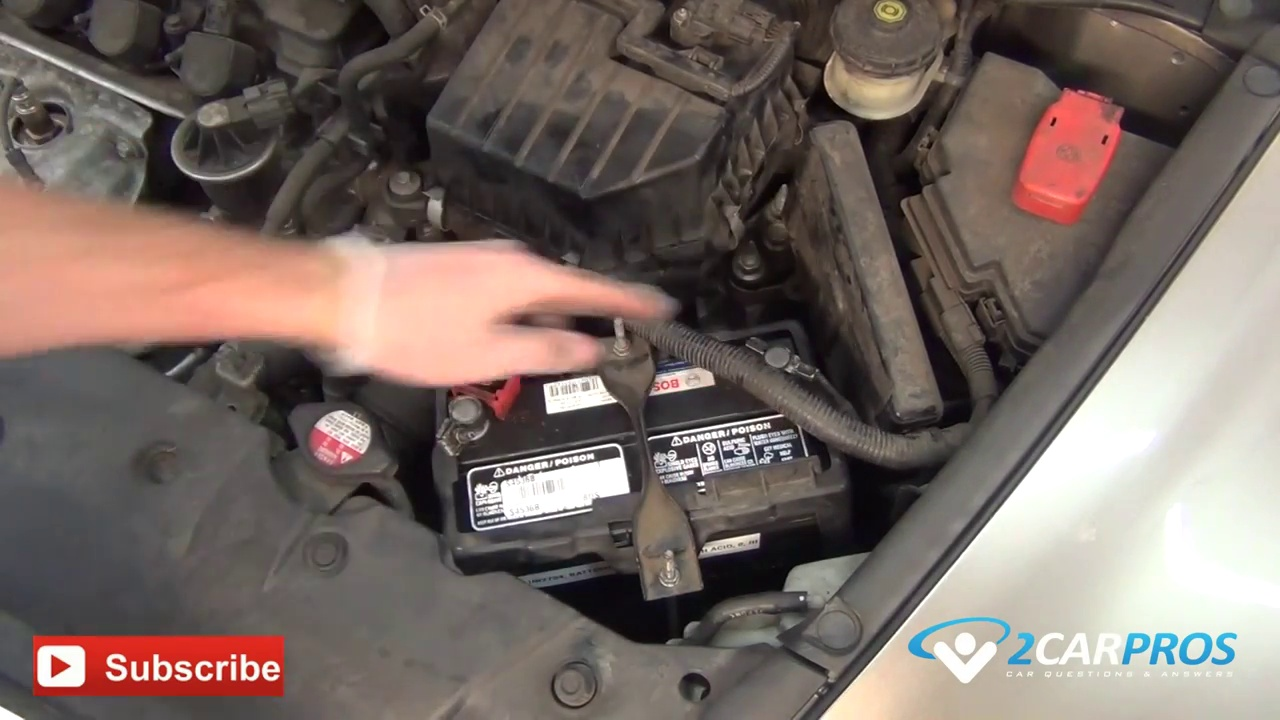battery: (395, 324, 876, 585)
neg_connected: (723, 305, 853, 401)
pos_touched: (424, 331, 544, 461)
